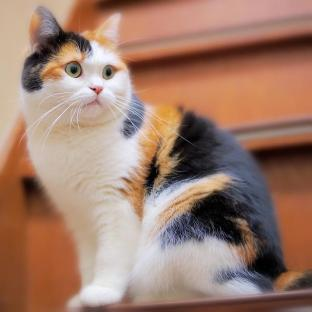Animal: (21, 7, 312, 306)
